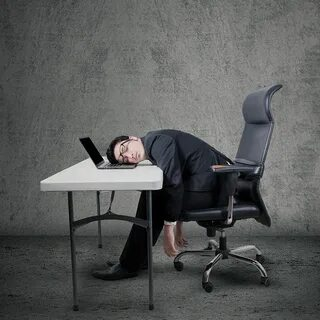sleep: (105, 127, 221, 168)
